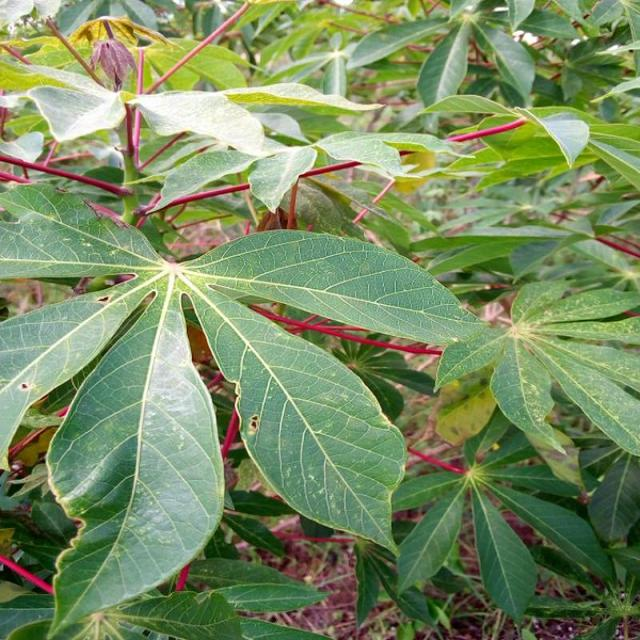cassava leaf: (43, 276, 226, 637), (179, 276, 409, 558)
